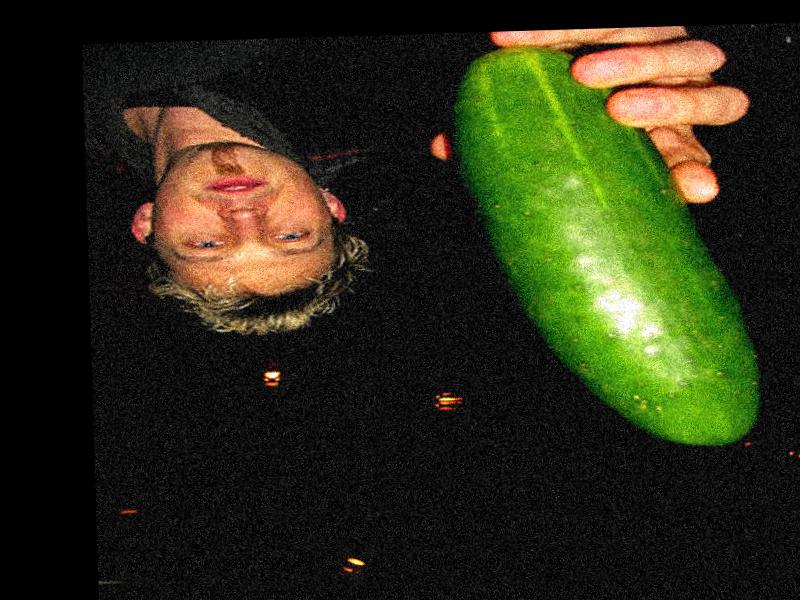Cucumber: (456, 42, 762, 451)
